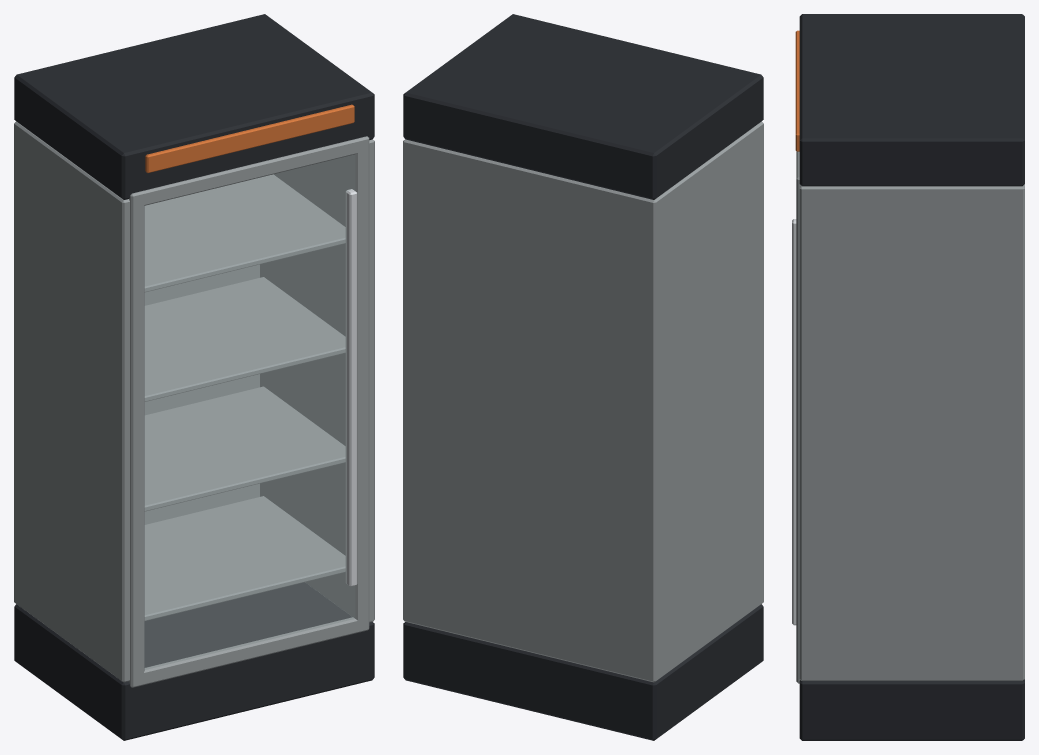
File: display-fridge-glass.glb
3 renders of one model, left to right at view 1: azimuth 30°, elevation 25°; view 2: azimuth 150°, elevation 25°; view 3: azimuth 270°, elevation 25°, orthographic. The views are drawn at different scales.
Parts seen in each view (by area): view 1: display-fridge-glass.metal, display-fridge-glass.glass, display-fridge-glass.graphite, display-fridge-glass.chrome, display-fridge-glass.accent; view 2: display-fridge-glass.metal, display-fridge-glass.graphite; view 3: display-fridge-glass.metal, display-fridge-glass.graphite, display-fridge-glass.chrome, display-fridge-glass.accent.
Part boxes in pixels (bbox=[...]): display-fridge-glass.metal: bbox=[14, 121, 374, 687]; display-fridge-glass.glass: bbox=[145, 155, 354, 669]; display-fridge-glass.graphite: bbox=[14, 14, 374, 740]; display-fridge-glass.chrome: bbox=[345, 189, 357, 586]; display-fridge-glass.accent: bbox=[145, 104, 354, 172]; display-fridge-glass.metal: bbox=[403, 121, 763, 682]; display-fridge-glass.graphite: bbox=[403, 14, 763, 740]; display-fridge-glass.metal: bbox=[796, 151, 1024, 683]; display-fridge-glass.graphite: bbox=[799, 14, 1024, 740]; display-fridge-glass.chrome: bbox=[792, 219, 796, 625]; display-fridge-glass.accent: bbox=[795, 30, 799, 151].
Bounding box in the file's own units: 0.9 × 2 × 0.7.
